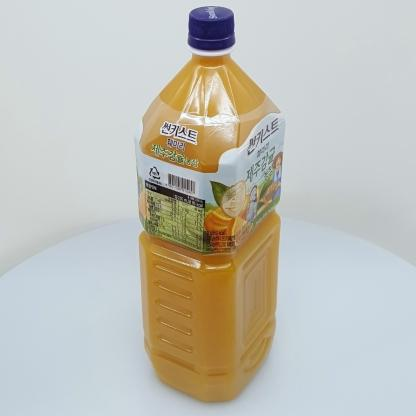-----------2L: (135, 6, 285, 402)
